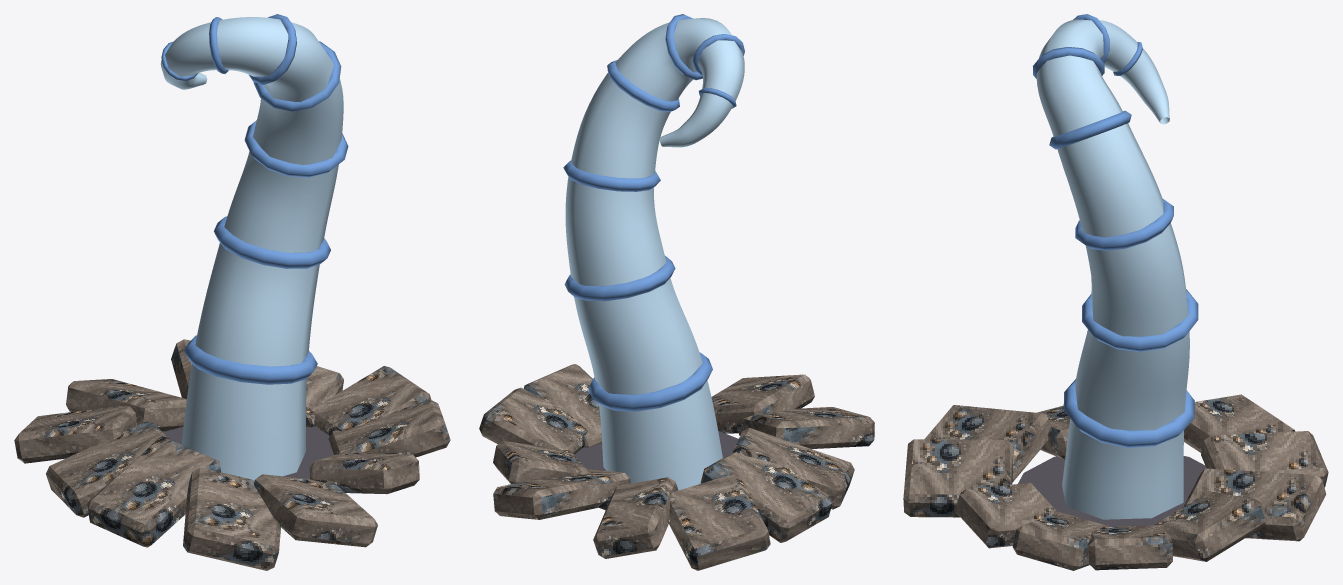
The model's file is tentacle.glb.
3 views of the same model, side by side, from view 1: azimuth 30°, elevation 25°; view 2: azimuth 150°, elevation 25°; view 3: azimuth 270°, elevation 25° (orthographic). The views are drawn at different scales.
Visible parts, largest first — view 1: Cracks, Body, Band1, Band2, Band3, Pit, Band4, Band5; view 2: Cracks, Body, Band1, Band2, Band3, Band4, Pit, Band5, Band6; view 3: Body, Cracks, Pit, Band1, Band2, Band3, Band4, Band5.
Boxes of the visible parts, x1,y1,x2,y2 form: Cracks: (14,339,450,570); Body: (160,17,343,480); Band1: (184,335,317,384); Band2: (214,216,330,268); Band3: (244,120,348,177); Pit: (162,426,333,478); Band4: (253,41,341,111); Band5: (248,14,296,84); Cracks: (479,364,874,570); Body: (565,18,744,490); Band1: (588,352,712,411); Band2: (564,255,675,301); Band3: (563,160,660,191); Band4: (607,59,679,112); Pit: (574,431,738,510); Band5: (665,14,702,80); Band6: (693,34,744,76); Body: (1036,19,1189,519); Cracks: (903,394,1328,570); Pit: (1018,456,1205,526); Band1: (1063,379,1194,447); Band2: (1082,289,1198,351); Band3: (1075,199,1173,250); Band4: (1049,110,1131,149); Band5: (1033,47,1104,78).
Bounding box in the file's own units: 2.61 × 3.49 × 2.74.
4 materials, 1 textured.
